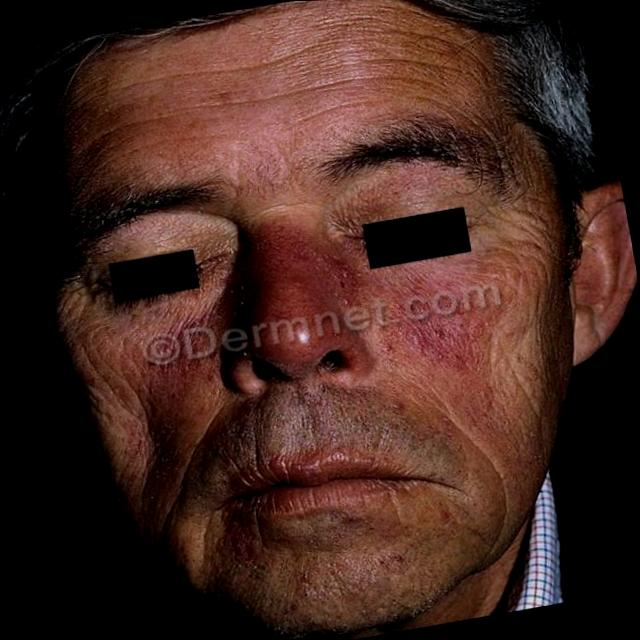skinredness: (314, 240, 582, 445)
